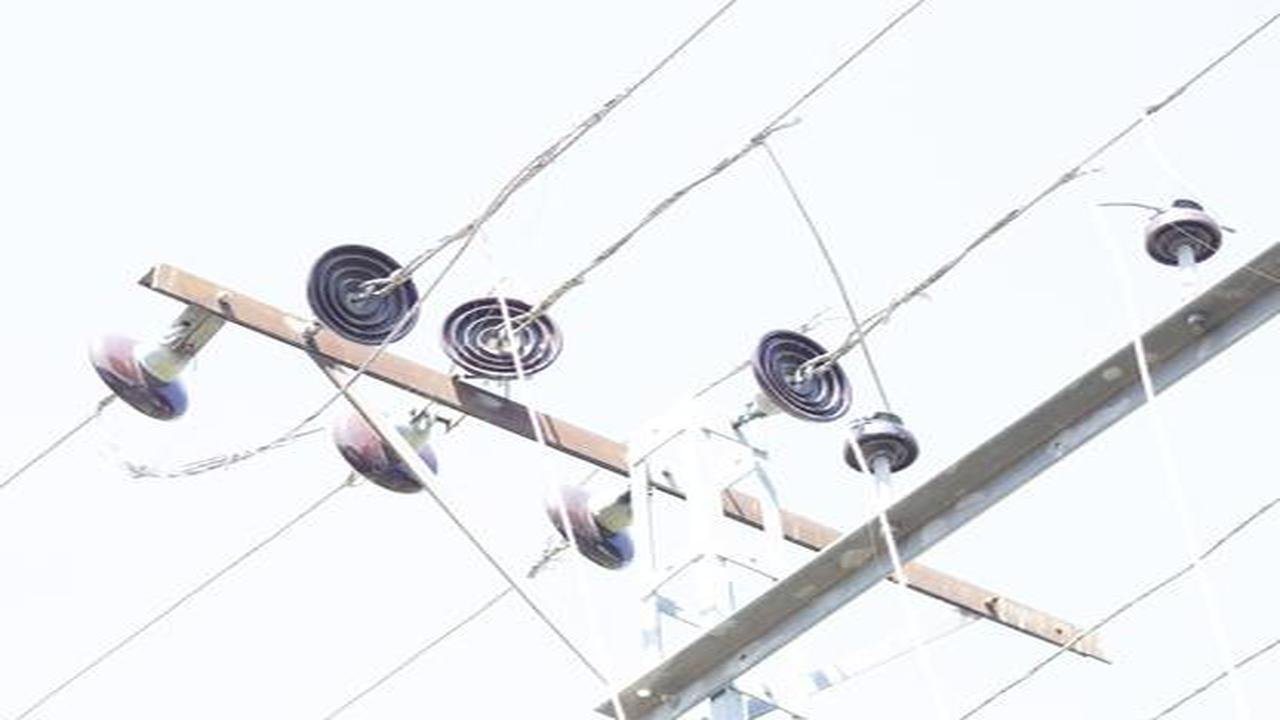insulator_disc: (307, 242, 422, 355), (439, 288, 566, 390), (326, 398, 443, 493), (89, 325, 197, 423), (544, 480, 644, 573), (751, 325, 850, 418)
insulator_pin: (1141, 186, 1226, 267), (842, 411, 922, 475)
